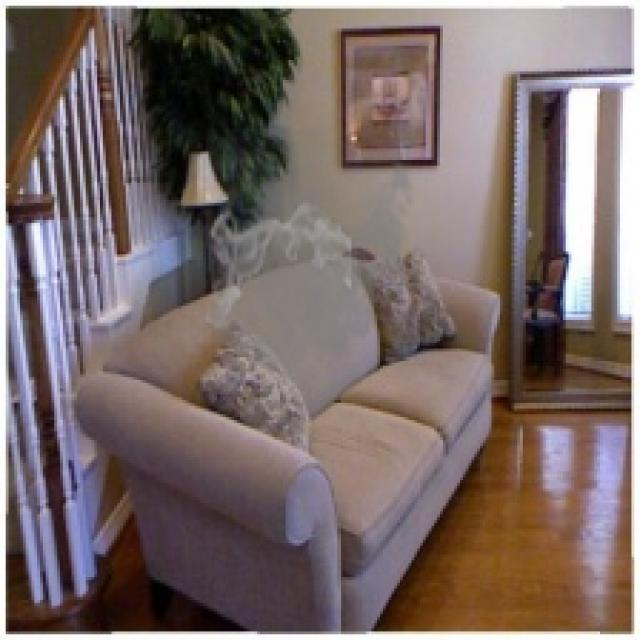smoke: (203, 129, 420, 400)
